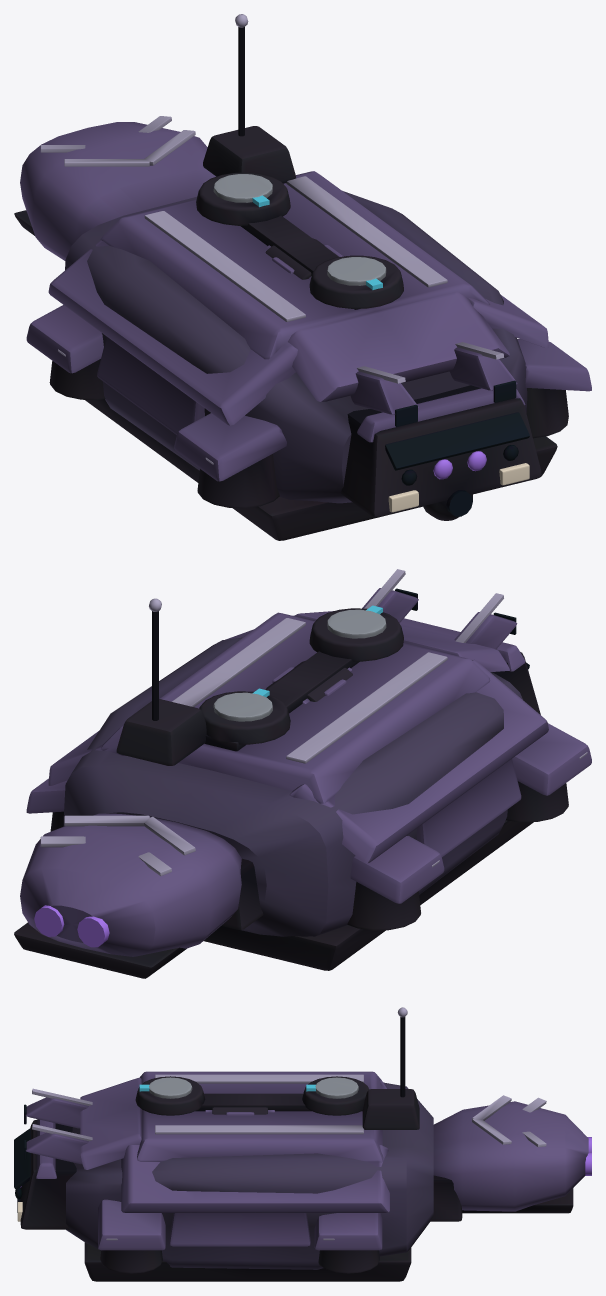
File: ex_strider_3.glb
3 renders of one model, top to bottom at view 1: azimuth 30°, elevation 25°; view 2: azimuth 150°, elevation 25°; view 3: azimuth 270°, elevation 25°, orthographic. The views are drawn at different scales.
Parts seen in each view (by area): view 1: body, leg_upper; view 2: body, leg_upper; view 3: body, leg_upper.
Boxes of the visible parts, x1,y1,x2,y2 form: body: (14,14,591,540); leg_upper: (265,238,343,279); body: (14,569,591,978); leg_upper: (265,660,352,704); body: (14,1007,591,1281); leg_upper: (205,1107,274,1115).
Size of the model in its own units: 4.34 by 3.66 by 7.9.
